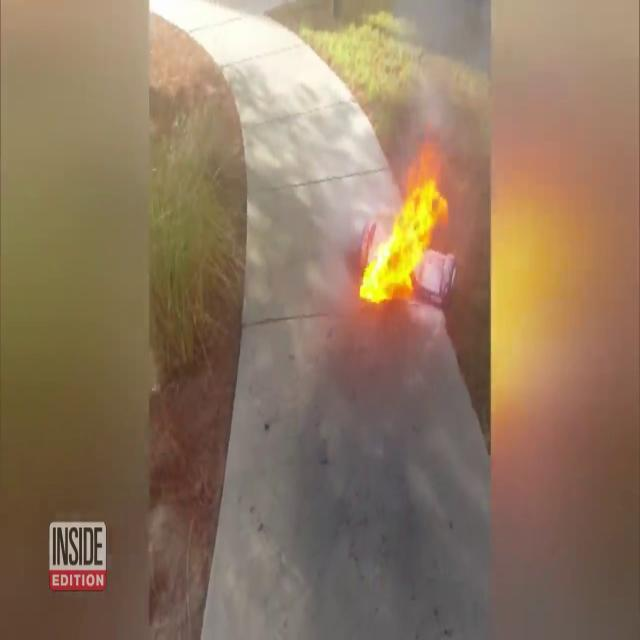Fire: (356, 145, 454, 311)
Smoke: (374, 0, 492, 184)
